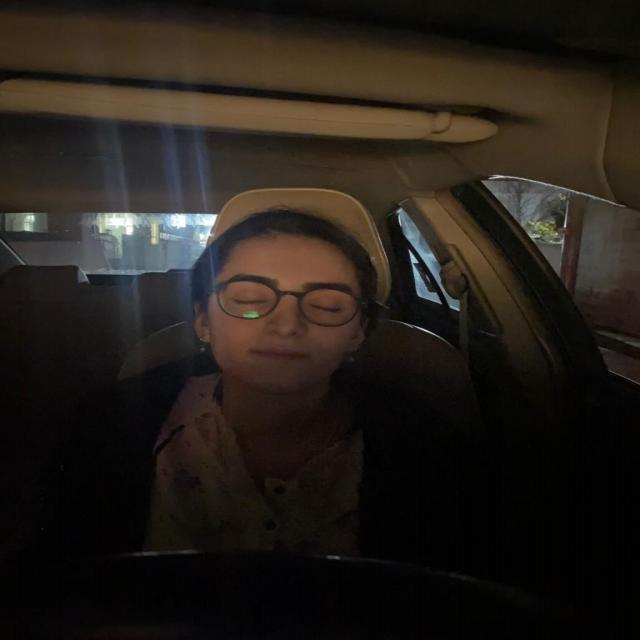drowsy: (189, 209, 373, 397)
